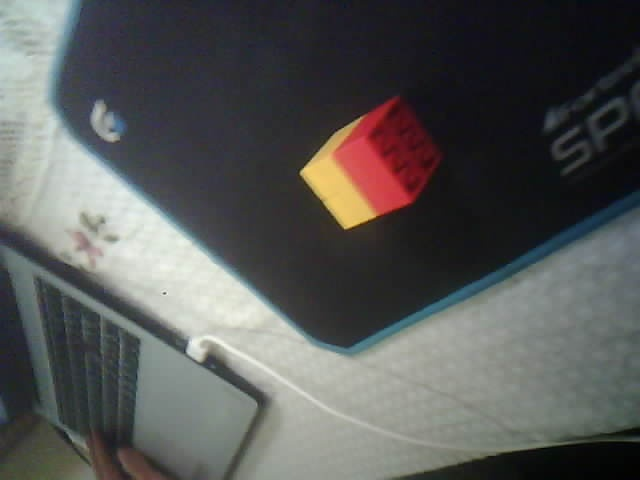lego: (296, 94, 444, 233)
